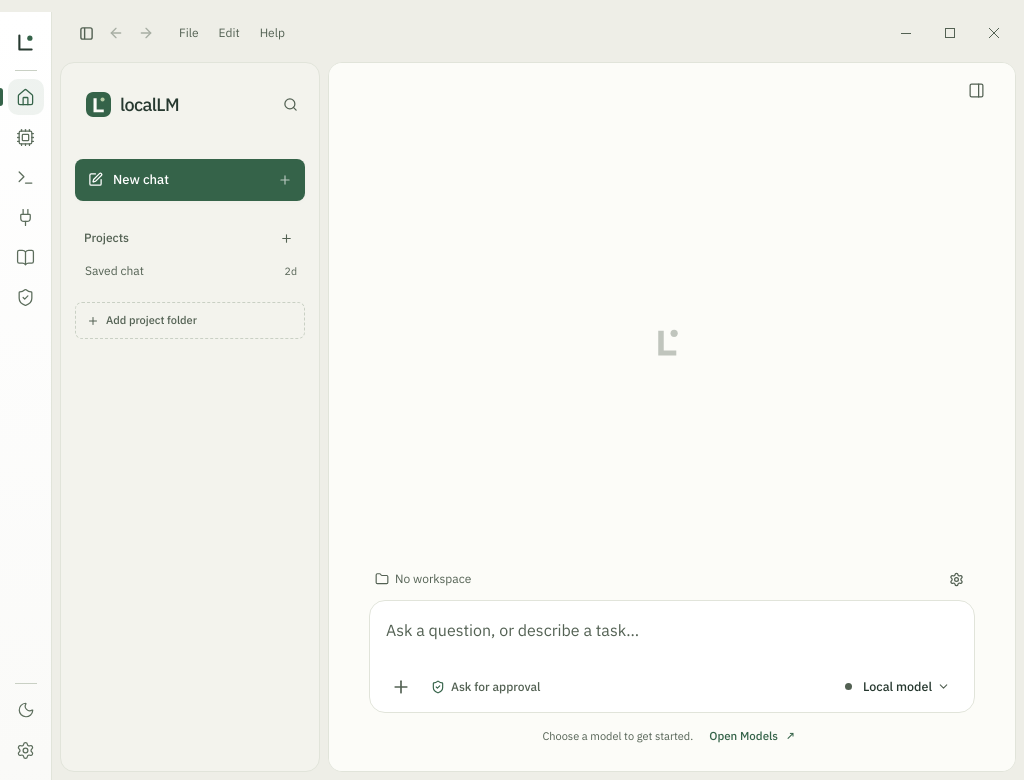
Test: brand home navigation › returns from a saved conversation to home without requiring a project
Click the button "Saved chat" at (181, 271), box [85, 263, 277, 279]
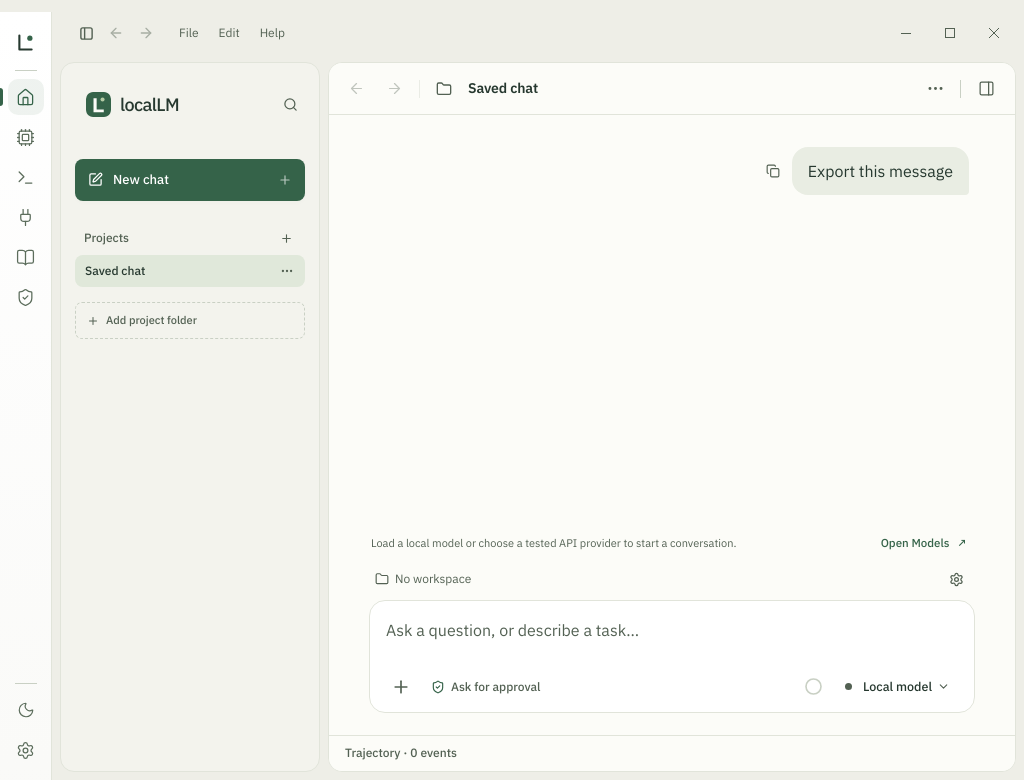
Check: the text "Export this message" is shown, box [808, 157, 953, 185]
Click the button with aria-label "localLM home" at (132, 105), box [77, 85, 188, 125]
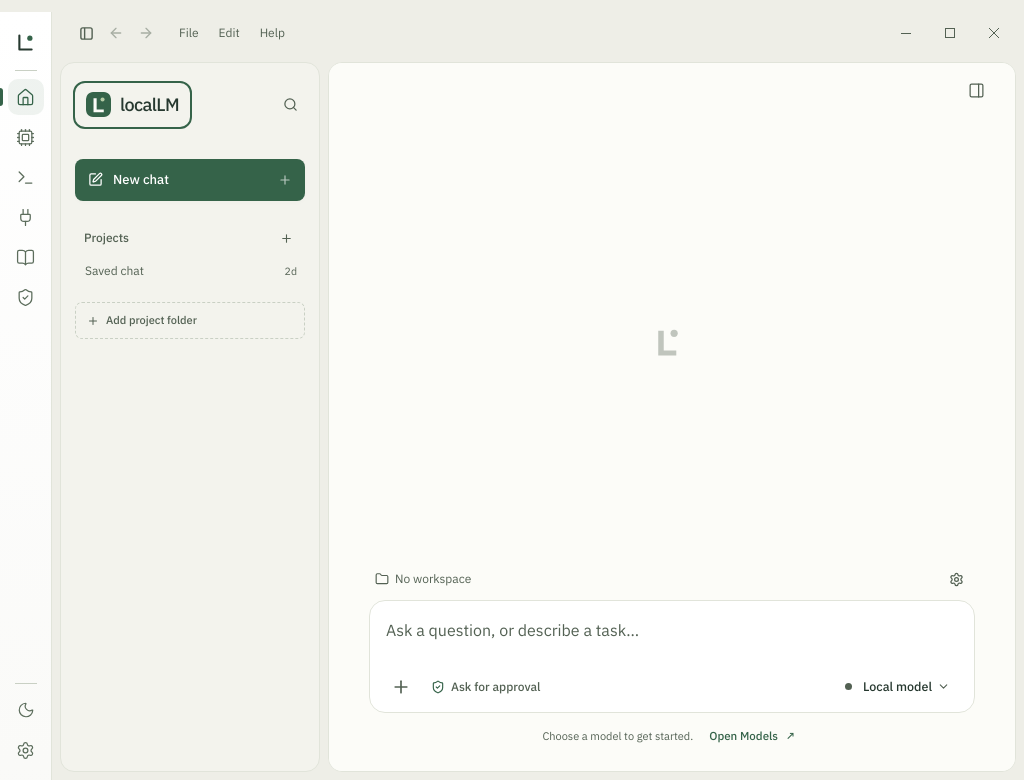
Check: the text box named "Message" is shown, box [386, 615, 958, 659]
Check: the text "Export this message" is gone
Click the button "Saved chat" at (181, 271), box [85, 263, 277, 279]
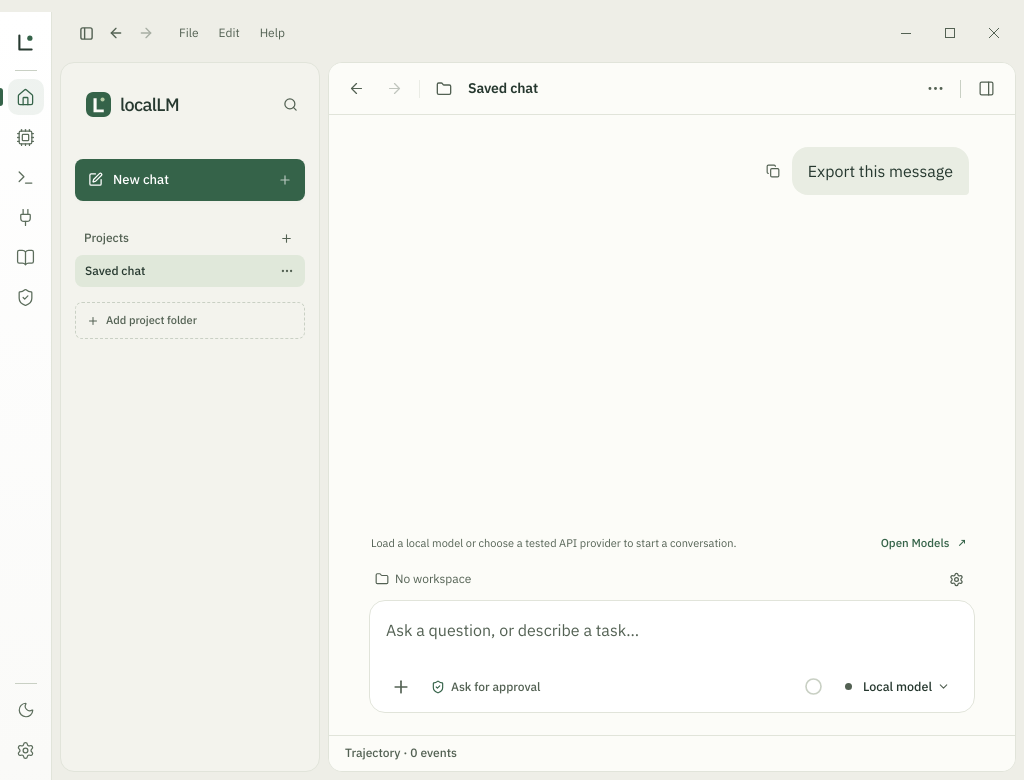
Check: the text "Export this message" is shown, box [808, 157, 953, 185]
